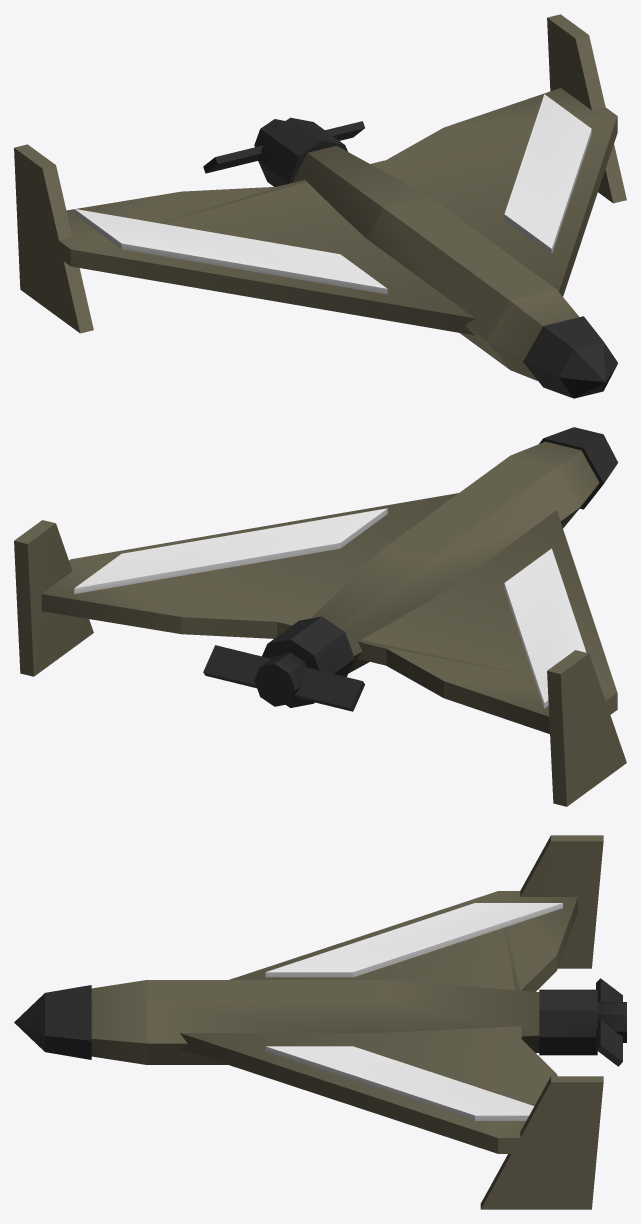
The model's file is ru-geran-2.glb.
3 views of the same model, one above another, from view 1: azimuth 30°, elevation 25°; view 2: azimuth 150°, elevation 25°; view 3: azimuth 270°, elevation 25° (orthographic). The views are drawn at different scales.
Parts seen in each view (by area): view 1: ru-geran-2, prop; view 2: ru-geran-2, prop; view 3: ru-geran-2, prop.
Boxes of the visible parts, x1,y1,x2,y2 form: ru-geran-2: [14, 14, 626, 398]; prop: [203, 119, 364, 173]; ru-geran-2: [14, 427, 626, 806]; prop: [203, 645, 364, 711]; ru-geran-2: [14, 835, 603, 1209]; prop: [596, 978, 626, 1066].
Bounding box in the file's own units: 1 × 0.24 × 1.05.
